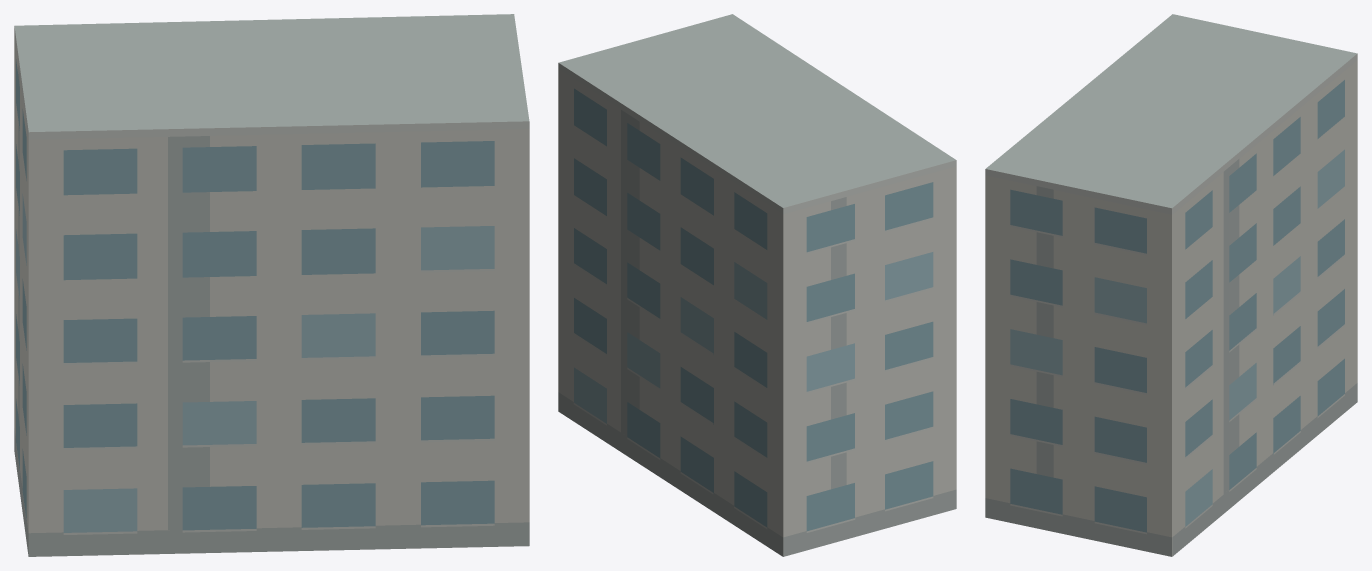
Rendered from survey-upis-32842946.glb.
3 renders of one model, left to right at view 1: azimuth 30°, elevation 25°; view 2: azimuth 150°, elevation 25°; view 3: azimuth 270°, elevation 25°, orthographic. The views are drawn at different scales.
Parts seen in each view (by area): view 1: survey-upis-32842946.tmp; view 2: survey-upis-32842946.tmp; view 3: survey-upis-32842946.tmp.
Part boxes in pixels (bbox=[...]): survey-upis-32842946.tmp: bbox=[14, 14, 529, 556]; survey-upis-32842946.tmp: bbox=[558, 14, 956, 556]; survey-upis-32842946.tmp: bbox=[985, 14, 1357, 556].
Size of the model in its own units: 16.03 by 13.4 by 12.98.
